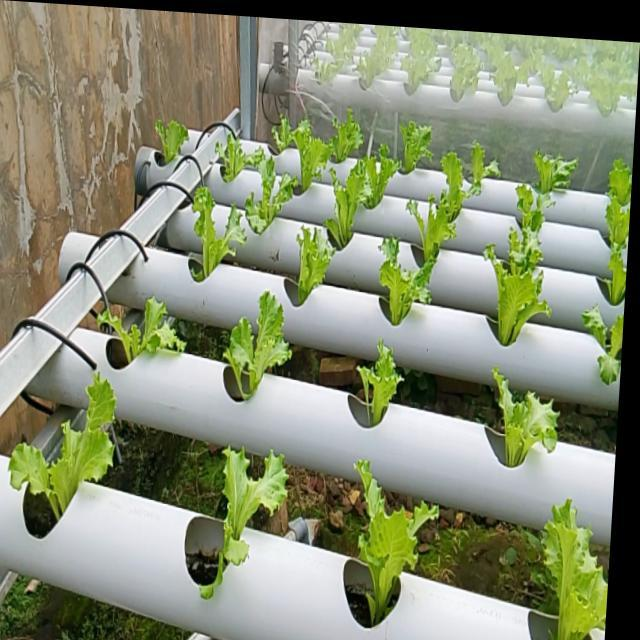Baby: (11, 378, 116, 525), (356, 464, 439, 630), (200, 451, 288, 604), (543, 504, 608, 640), (224, 293, 292, 402), (406, 174, 480, 268), (494, 370, 558, 469), (95, 297, 186, 363), (323, 158, 385, 252), (191, 188, 247, 284), (385, 115, 445, 203), (492, 261, 546, 348), (272, 117, 331, 194), (245, 152, 298, 237), (358, 342, 403, 427), (502, 205, 543, 296), (582, 306, 624, 387), (380, 240, 419, 327), (294, 229, 335, 308), (215, 130, 264, 184), (605, 166, 632, 250), (463, 142, 501, 199), (534, 150, 578, 195), (329, 110, 363, 164), (598, 251, 627, 304), (155, 119, 189, 161)
